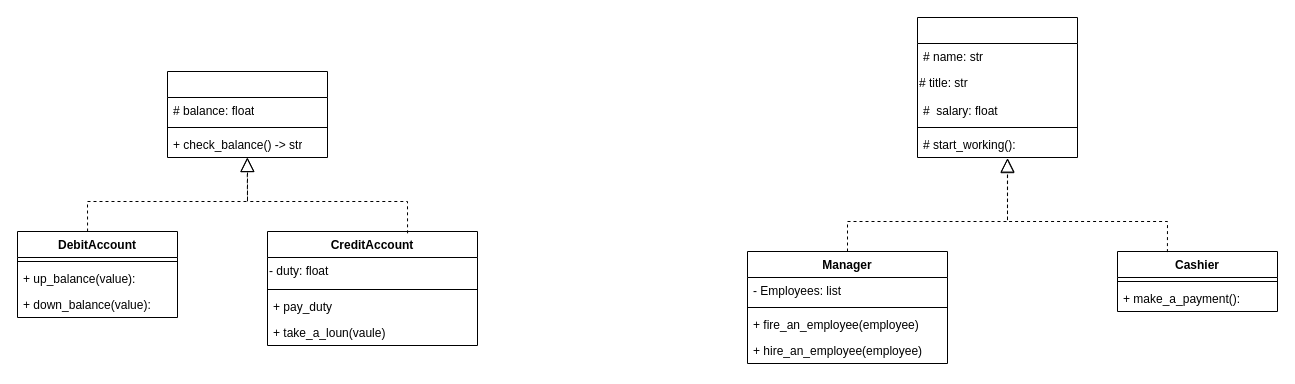
The diagram is 1295 pixels wide and 384 high, and some of its shapes have lost their labels. The box of each missing label's shape, as (x1, y1, x2, y2) in pixels:
AAccount: (166, 70, 328, 158)
BankEmployee: (916, 16, 1078, 158)
